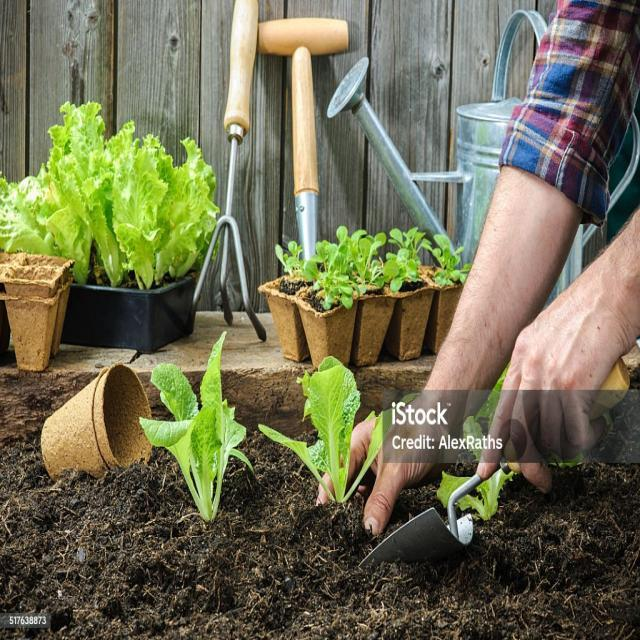Lettuce-Not-Ready-to-Harvest: (143, 329, 261, 529), (259, 356, 391, 507), (443, 419, 520, 522)
Lettuce-Ready-to-Harvest: (115, 144, 183, 293), (75, 148, 135, 289), (49, 149, 100, 286)
